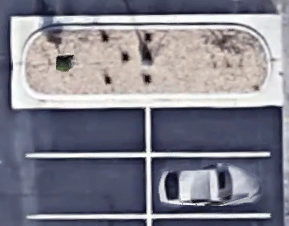Occupied: (149, 155, 269, 215)
Vacant: (25, 155, 149, 217), (25, 103, 149, 155), (148, 103, 270, 154)
